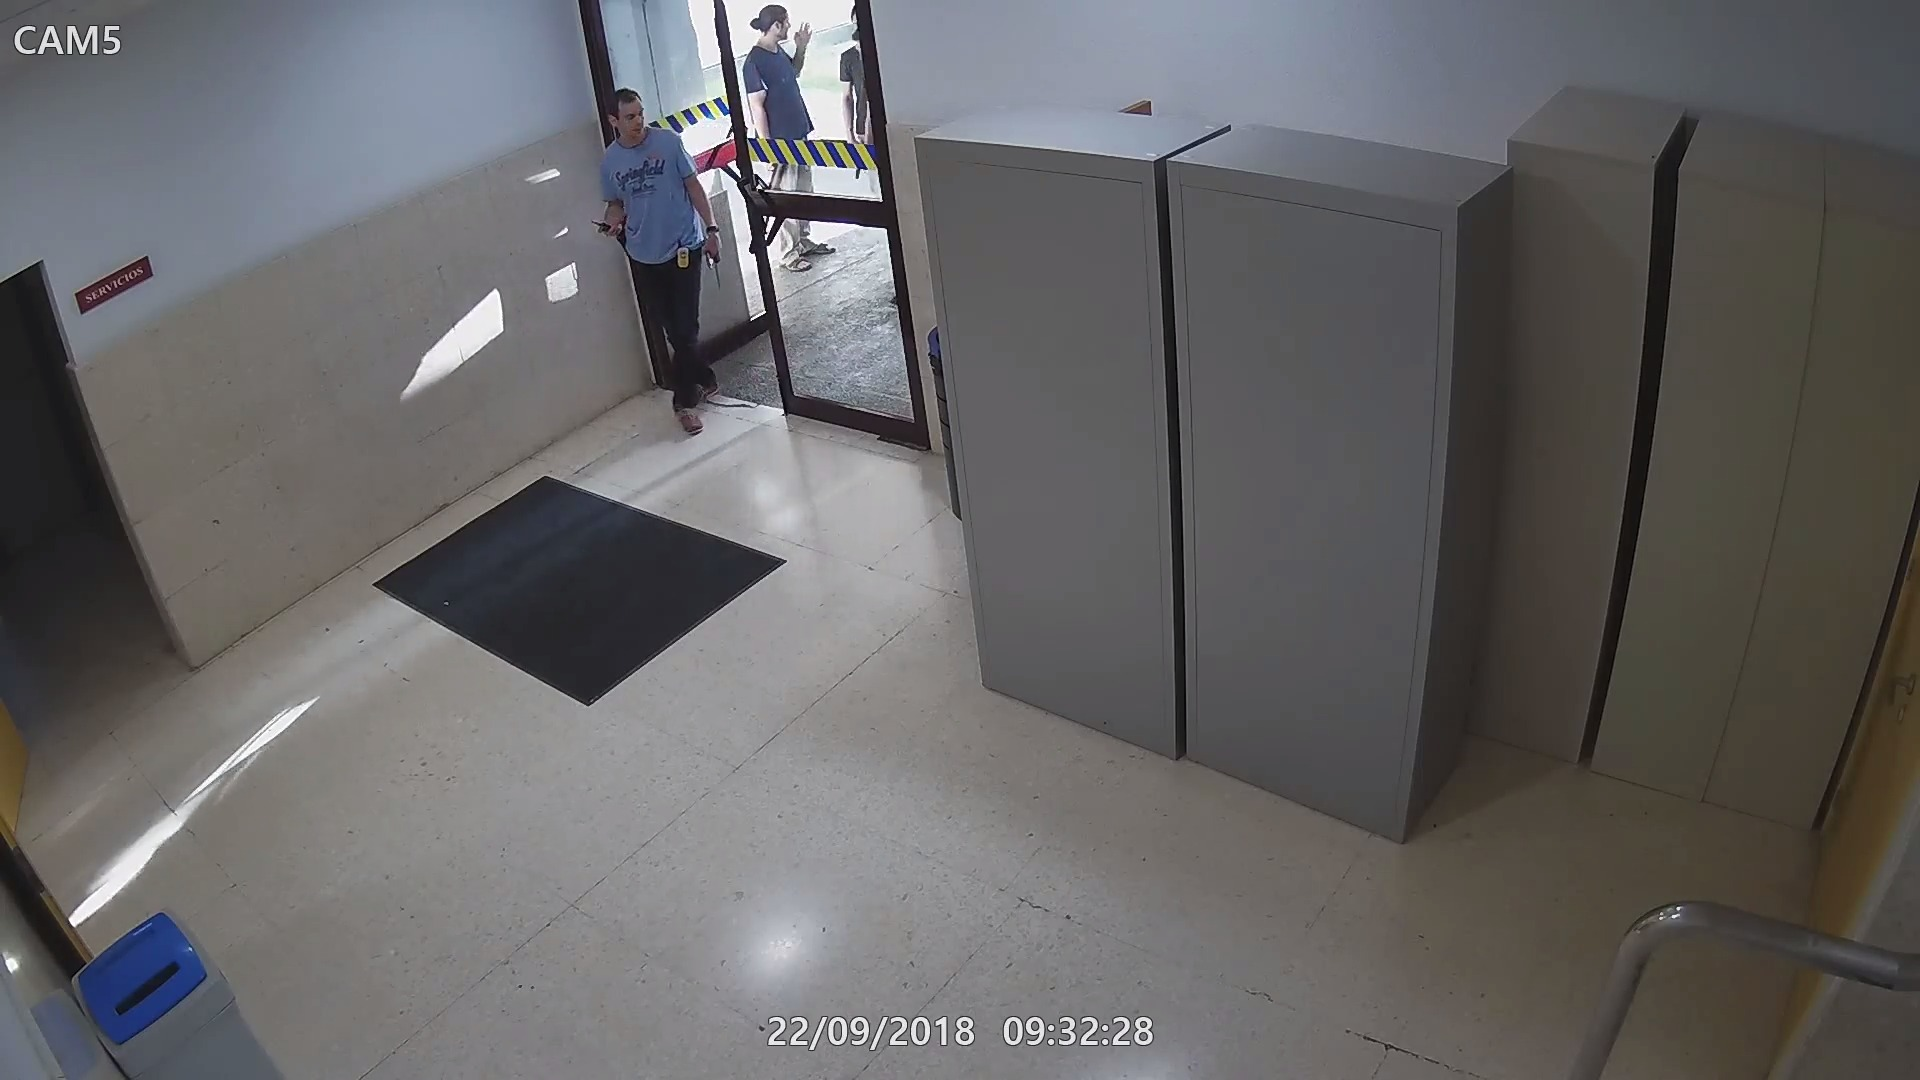Handgun: (703, 235, 729, 290)
Knife: (705, 241, 727, 291)
